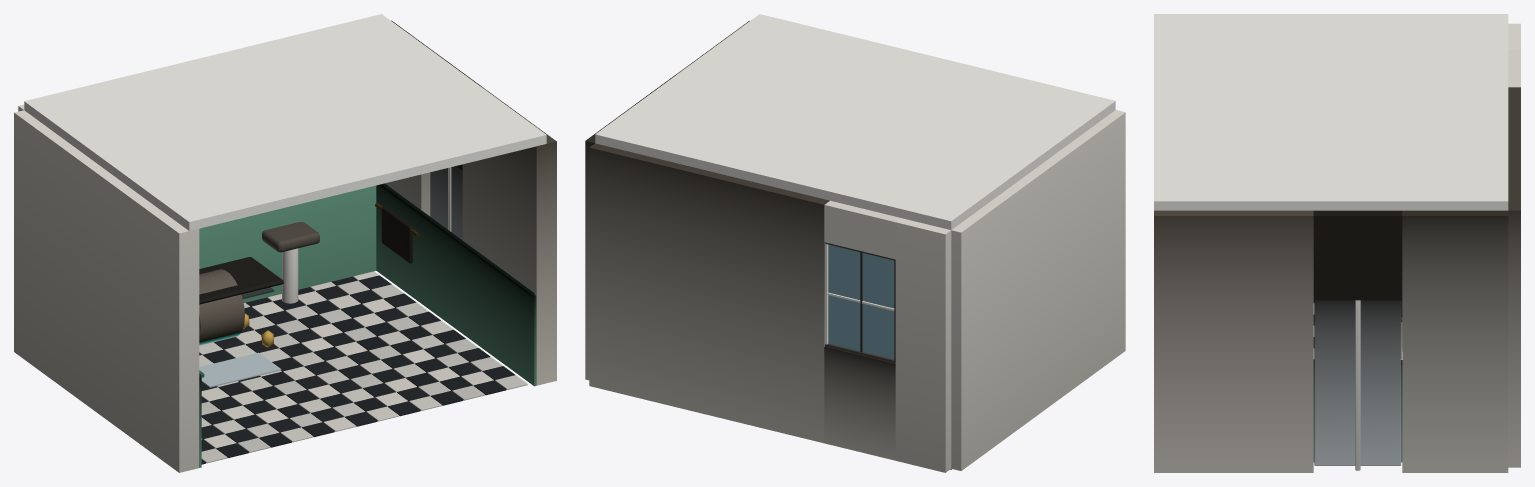
The model's file is bath.glb.
3 renders of one model, left to right at view 1: azimuth 30°, elevation 25°; view 2: azimuth 150°, elevation 25°; view 3: azimuth 270°, elevation 25°, orthographic. The views are drawn at different scales.
Visible parts, largest first — view 1: bath.plaster.8, bath.plaster.5, bath.tile.6, bath.tile.1, bath.tile.0, bath.paint.9, anim-frost, bath.fabric.15, bath.fabric.13, bath.tile.7; view 2: bath.plaster.5, bath.plaster.8, bath.glass.2, bath.paint.3; view 3: bath.plaster.5, bath.plaster.8, anim-frost, bath.paint.3, bath.tile.6.
Boxes of the visible parts, x1=… form: bath.plaster.8: x1=24, y1=14, x2=546, y2=230; bath.plaster.5: x1=14, y1=20, x2=556, y2=472; bath.tile.6: x1=199, y1=185, x2=536, y2=467; bath.tile.1: x1=199, y1=271, x2=527, y2=463; bath.tile.0: x1=199, y1=275, x2=514, y2=464; bath.paint.9: x1=199, y1=222, x2=319, y2=345; anim-frost: x1=430, y1=166, x2=462, y2=239; bath.fabric.15: x1=199, y1=352, x2=281, y2=387; bath.fabric.13: x1=381, y1=206, x2=412, y2=263; bath.tile.7: x1=199, y1=183, x2=534, y2=377; bath.plaster.5: x1=585, y1=20, x2=1125, y2=472; bath.plaster.8: x1=595, y1=14, x2=1115, y2=229; bath.glass.2: x1=828, y1=244, x2=894, y2=359; bath.paint.3: x1=825, y1=242, x2=895, y2=363; bath.plaster.5: x1=1154, y1=23, x2=1520, y2=472; bath.plaster.8: x1=1154, y1=14, x2=1508, y2=210; anim-frost: x1=1314, y1=300, x2=1401, y2=465; bath.paint.3: x1=1355, y1=300, x2=1360, y2=470; bath.tile.6: x1=1313, y1=365, x2=1402, y2=462.
Size of the model in its own units: 5.28 by 3.34 by 4.14.
